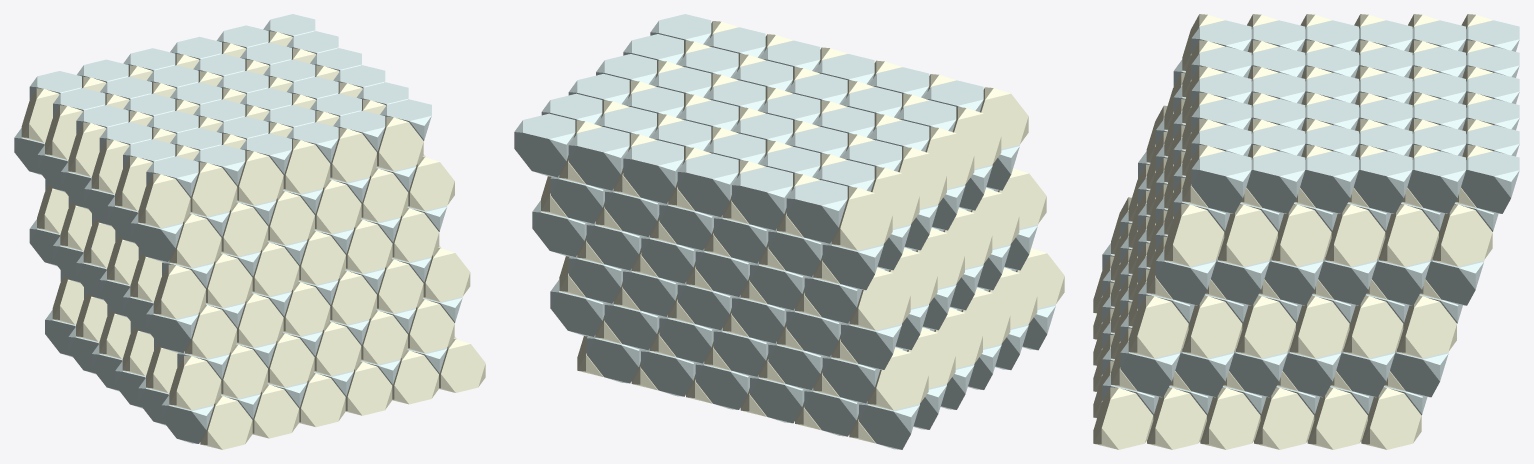
File: voronoi-reference.glb
3 views of the same model, side by side, from view 1: azimuth 30°, elevation 25°; view 2: azimuth 150°, elevation 25°; view 3: azimuth 270°, elevation 25° (orthographic). The views are drawn at different scales.
Parts seen in each view (by area): view 1: Solid, Solid.2; view 2: Solid.2, Solid; view 3: Solid.2, Solid.
Part boxes in pixels (<box>): Solid: <box>21,31,485,449</box>; Solid.2: <box>14,14,462,443</box>; Solid.2: <box>514,14,1055,449</box>; Solid: <box>541,21,1064,443</box>; Solid.2: <box>1102,20,1519,415</box>; Solid: <box>1093,14,1492,449</box>.
Size of the model in its own units: 7.03 by 5.5 by 7.5.
